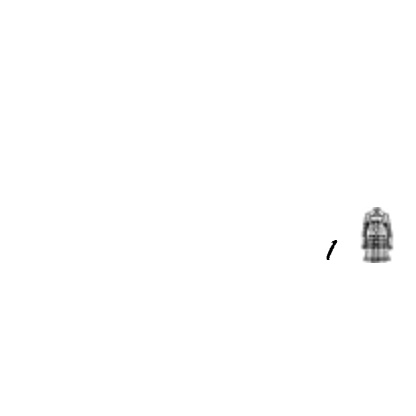1: (317, 235, 345, 263)
Coat: (349, 207, 405, 263)
